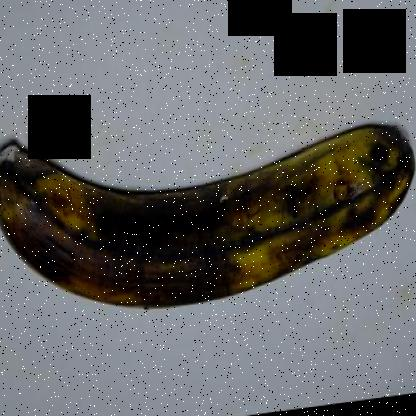overripe: (1, 124, 415, 340)
